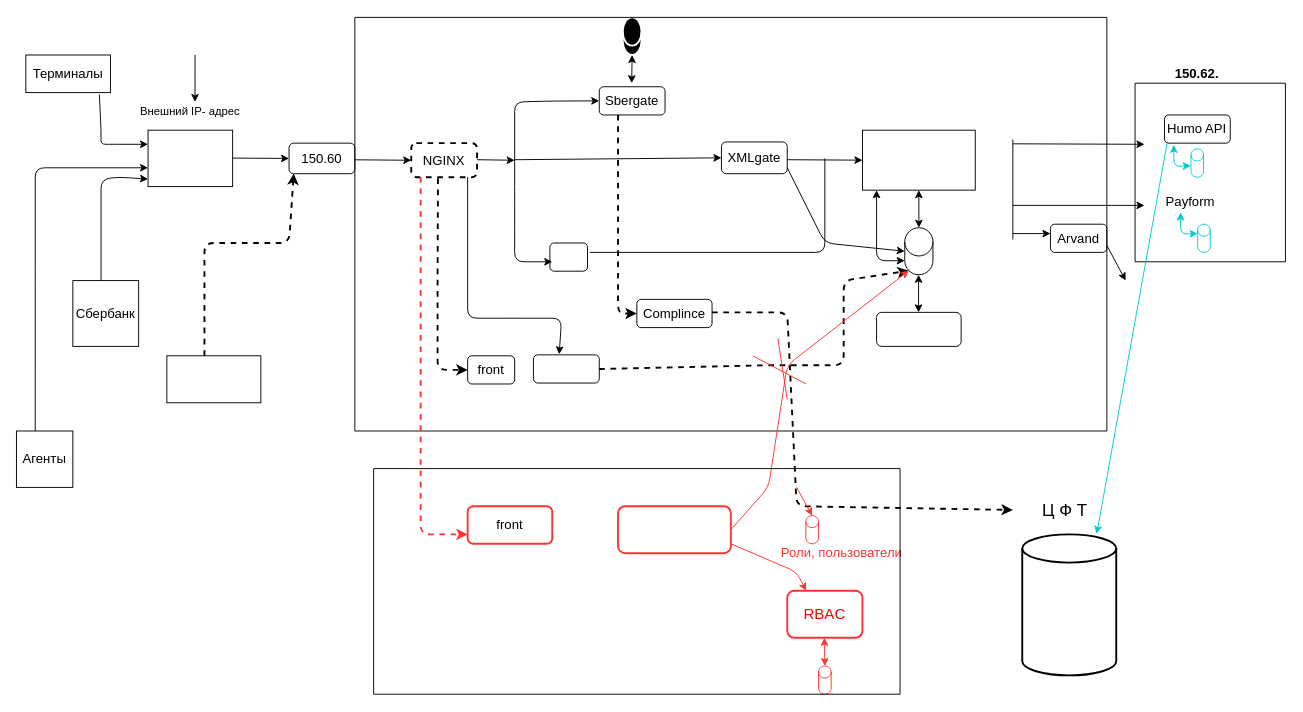
The diagram is 1303 pixels wide and 712 high, and some of its shapes have lost their labels. The centre of each missing label's shape, as x and y in pixels:
falcon API: (566,368)
falcon API front back: (674,529)
interchange: (918,328)
Processor: (918,159)
te: (568,256)
вк2. humo.tj git.humo.tj .........: (190,158)
Внутренние лимиты: (213,379)
